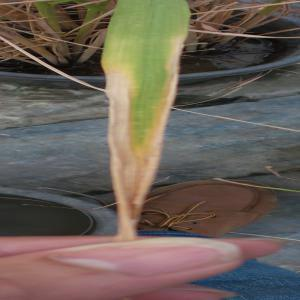2 BacterialBlight: (99, 16, 184, 233)
